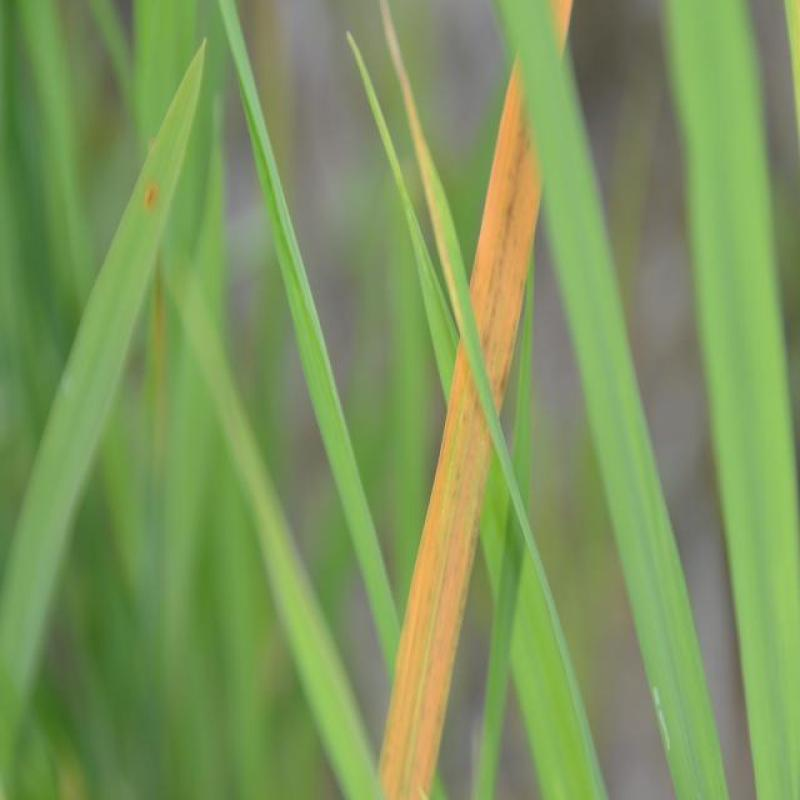Rice Tungro: (366, 18, 586, 762)
